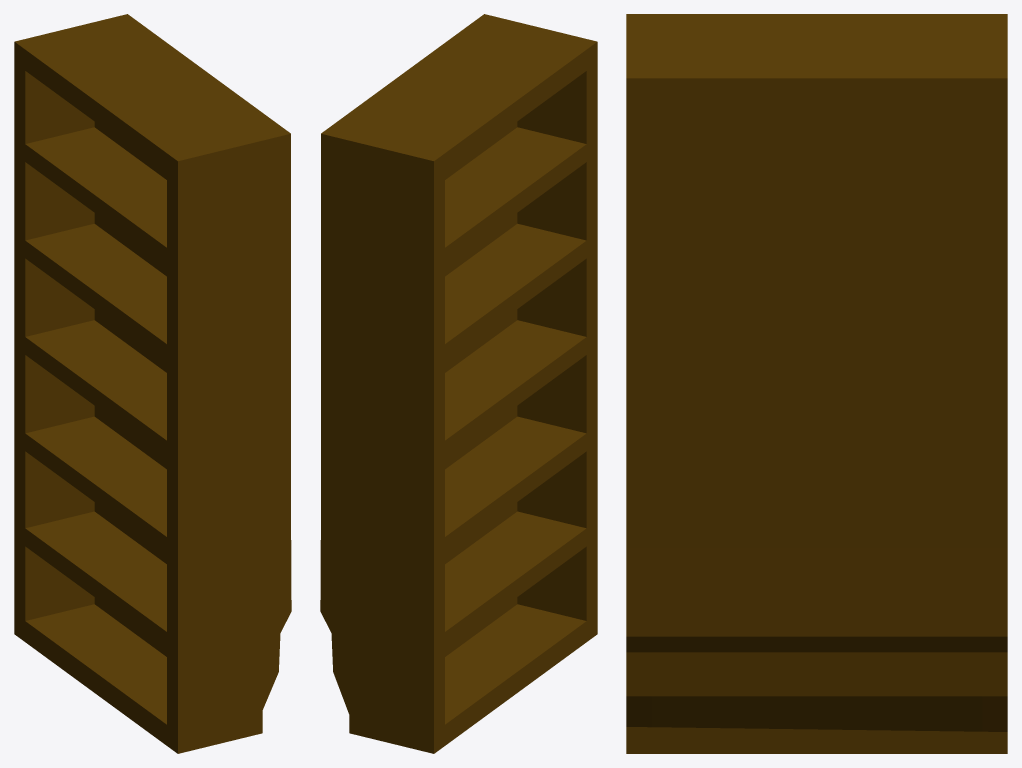
The model's file is bookCase_empty.fbx.
3 renders of one model, left to right at view 1: azimuth 30°, elevation 25°; view 2: azimuth 150°, elevation 25°; view 3: azimuth 270°, elevation 25°, orthographic. The views are drawn at different scales.
Visible parts, largest first — view 1: bookcase_empty; view 2: bookcase_empty; view 3: bookcase_empty.
Part boxes in pixels (box(x1,y1,x2,y2)): bookcase_empty: box(14, 14, 291, 753); bookcase_empty: box(320, 14, 597, 753); bookcase_empty: box(626, 14, 1007, 753).
Bounding box in the file's own units: 40.13 × 200 × 100.
